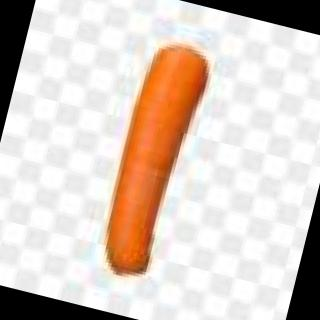Wortel: (72, 20, 243, 295)
